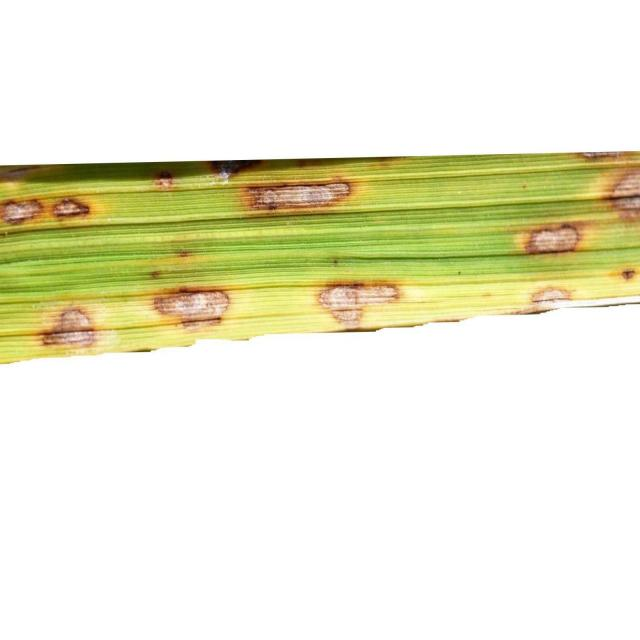Brown_Spot: (235, 167, 363, 231), (556, 152, 640, 232), (304, 272, 420, 329), (140, 279, 245, 339), (143, 281, 244, 336), (32, 298, 113, 362), (507, 212, 598, 267), (0, 190, 103, 238), (521, 278, 581, 312), (200, 161, 264, 189), (612, 254, 638, 297), (150, 168, 179, 193), (171, 243, 202, 265), (141, 266, 171, 285)
